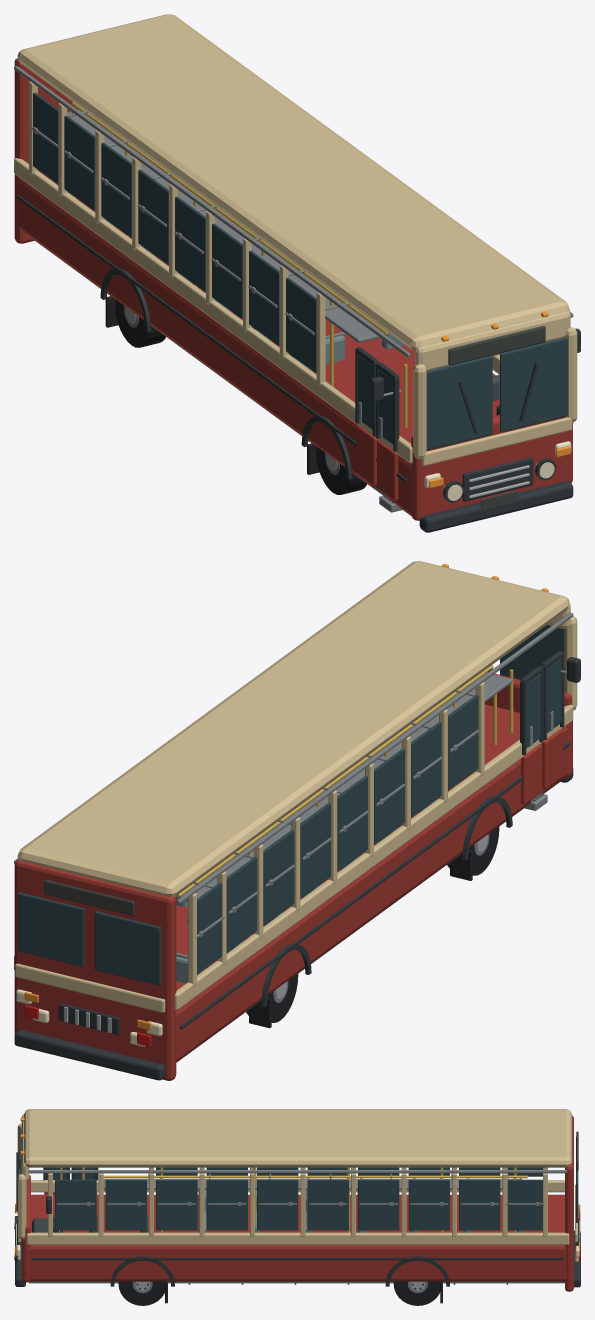
The model's file is bus_v2_detail.glb.
3 views of the same model, one above another, from view 1: azimuth 30°, elevation 25°; view 2: azimuth 150°, elevation 25°; view 3: azimuth 270°, elevation 25° (orthographic). The views are drawn at different scales.
Parts seen in each view (by area): view 1: BODY_ROOF, BODY_LOWER, BELT_L, FRONT_LOWER, WINDSHIELD_R, WINDSHIELD_L, LUGGAGE_RACK_L, RAIN_GUTTER_L, FRONT_BUMPER, SIDE_WINDOW_L_09, FRONT_HEADER, REAR_PANEL (+26 smaller); view 2: BODY_ROOF, BODY_LOWER, REAR_PANEL, BELT_L, REAR_WINDOW_L, REAR_WINDOW_R, RAIN_GUTTER_L, REAR_BUMPER, LUGGAGE_RACK_L, SIDE_WINDOW_L_08, SIDE_WINDOW_L_09, SIDE_WINDOW_L_06 (+25 smaller); view 3: BODY_ROOF, BODY_LOWER, BELT_R, RAIN_GUTTER_R, SIDE_WINDOW_R_01, SIDE_WINDOW_R_03, SIDE_WINDOW_R_05, SIDE_WINDOW_R_07, SIDE_WINDOW_R_04, SIDE_WINDOW_R_06, SIDE_WINDOW_R_08, SIDE_WINDOW_R_09 (+24 smaller).
Part boxes in pixels (bbox=[...]): BODY_ROOF: bbox=[17, 14, 569, 350]; BODY_LOWER: bbox=[18, 172, 499, 515]; BELT_L: bbox=[14, 158, 412, 463]; FRONT_LOWER: bbox=[411, 414, 572, 520]; WINDSHIELD_R: bbox=[500, 337, 567, 431]; WINDSHIELD_L: bbox=[426, 355, 492, 450]; LUGGAGE_RACK_L: bbox=[67, 110, 384, 342]; RAIN_GUTTER_L: bbox=[14, 66, 410, 357]; FRONT_BUMPER: bbox=[419, 481, 573, 532]; SIDE_WINDOW_L_09: bbox=[64, 115, 95, 210]; FRONT_HEADER: bbox=[415, 311, 570, 370]; REAR_PANEL: bbox=[14, 58, 78, 243]; BODY_ROOF: bbox=[17, 561, 569, 896]; BODY_LOWER: bbox=[176, 704, 568, 1061]; REAR_PANEL: bbox=[14, 859, 176, 1080]; BELT_L: bbox=[174, 704, 573, 1009]; REAR_WINDOW_L: bbox=[94, 911, 161, 985]; REAR_WINDOW_R: bbox=[18, 892, 84, 966]; RAIN_GUTTER_L: bbox=[176, 612, 573, 904]; REAR_BUMPER: bbox=[14, 1030, 165, 1080]; LUGGAGE_RACK_L: bbox=[180, 673, 512, 901]; SIDE_WINDOW_L_08: bbox=[263, 830, 294, 925]; SIDE_WINDOW_L_09: bbox=[226, 857, 257, 952]; SIDE_WINDOW_L_06: bbox=[337, 776, 367, 871]; BODY_ROOF: bbox=[24, 1109, 571, 1167]; BODY_LOWER: bbox=[29, 1194, 566, 1281]; BELT_R: bbox=[26, 1232, 569, 1244]; RAIN_GUTTER_R: bbox=[28, 1170, 567, 1173]; SIDE_WINDOW_R_01: bbox=[55, 1179, 96, 1230]; SIDE_WINDOW_R_03: bbox=[156, 1179, 197, 1230]; SIDE_WINDOW_R_05: bbox=[257, 1179, 298, 1230]; SIDE_WINDOW_R_07: bbox=[358, 1179, 399, 1230]; SIDE_WINDOW_R_04: bbox=[206, 1179, 247, 1230]; SIDE_WINDOW_R_06: bbox=[307, 1179, 348, 1230]; SIDE_WINDOW_R_08: bbox=[408, 1179, 449, 1230]; SIDE_WINDOW_R_09: bbox=[459, 1179, 500, 1230].
Size of the model in its own units: 3.26 by 3.23 by 11.23.
